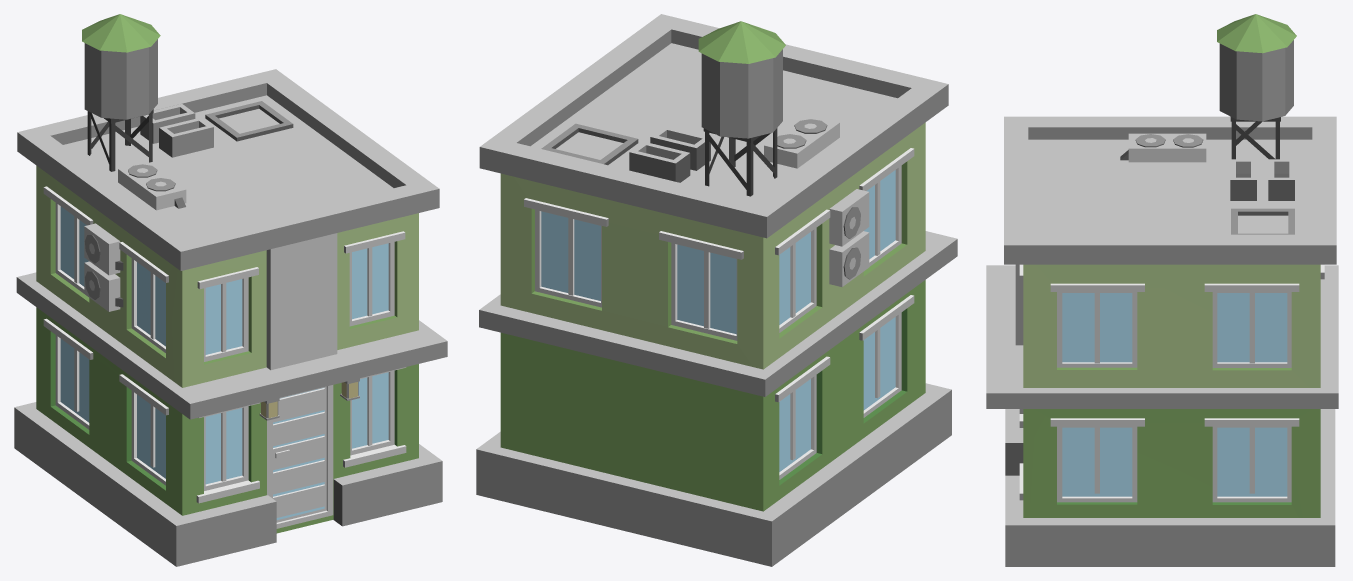
Rendered from house_small_1_004.fbx.
3 views of the same model, side by side, from view 1: azimuth 30°, elevation 25°; view 2: azimuth 150°, elevation 25°; view 3: azimuth 270°, elevation 25° (orthographic). The views are drawn at different scales.
Parts seen in each view (by area): view 1: house_small_1_004; view 2: house_small_1_004; view 3: house_small_1_004.
Boxes of the visible parts, box(x1,y1,x2,y2) form: house_small_1_004: box(14, 14, 447, 566); house_small_1_004: box(476, 14, 957, 566); house_small_1_004: box(986, 14, 1338, 566).
Size of the model in its own units: 506 by 811 by 571.
